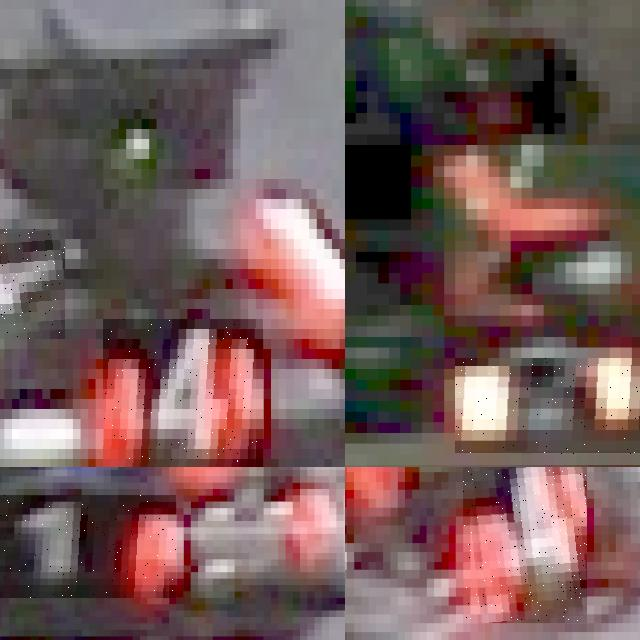R1: (0, 495, 176, 597)
R4: (103, 319, 263, 467), (463, 467, 586, 623), (0, 229, 65, 339)
Rs: (455, 358, 640, 454)
